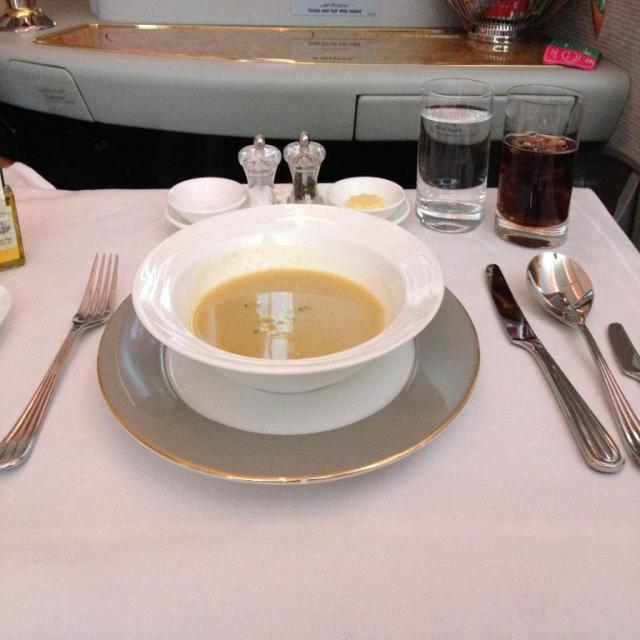non-organic waste: (93, 224, 498, 504)
